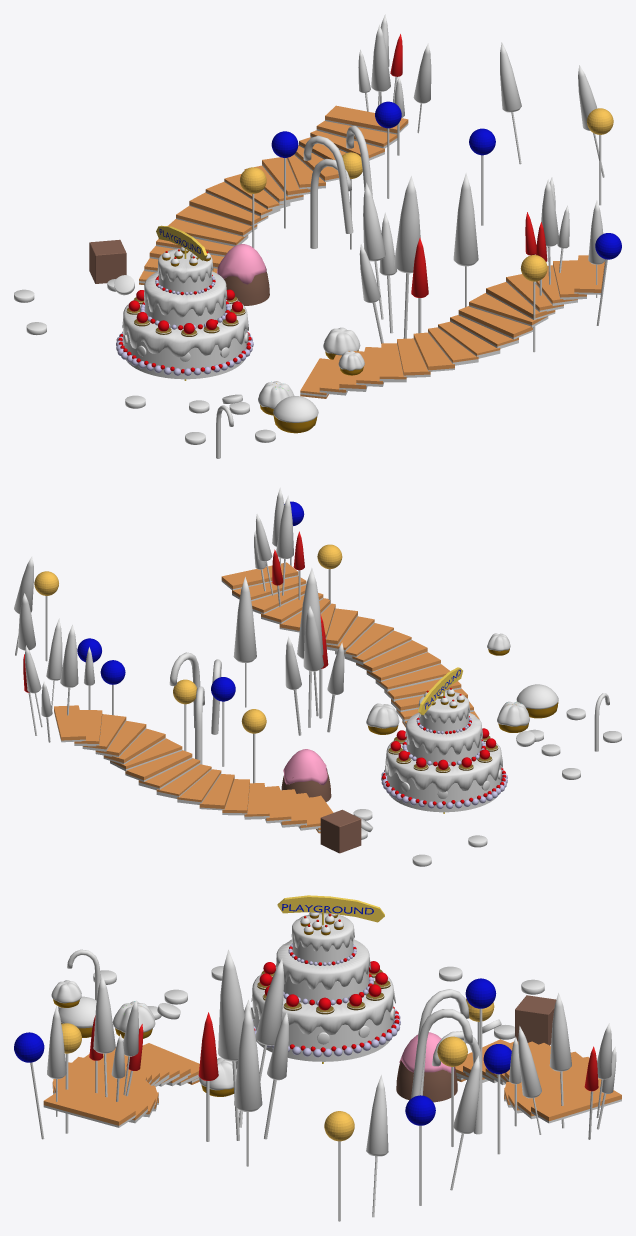
The model's file is land2 details.fbx.
The picture shows the model from 3 angles, top to bottom: view 1: azimuth 30°, elevation 25°; view 2: azimuth 150°, elevation 25°; view 3: azimuth 270°, elevation 25°; orthographic projection. The views are drawn at different scales.
Visible parts, largest first — view 1: stairs, candycone, maincakeicing, CANDY2.009, cakebody, CANDY2.008, candy5, conecakeicing, pie.002, cakeicingdecoration, cup cakes, leftcake (+3 smaller); view 2: stairs, candycone, maincakeicing, CANDY2.009, cakebody, candy5, pie.002, CANDY2.008, conecakeicing, cakeicingdecoration, leftcake, cup cakes (+3 smaller); view 3: candycone, stairs, CANDY2.009, maincakeicing, cakebody, CANDY2.008, candy5, pie.002, conecakeicing, cakeicingdecoration, PLAYGROUND TITLE, leftcake (+3 smaller).
Part boxes in pixels (left/top/right/bottom): stairs: left=139, top=105, right=605, bottom=398; candycone: left=358, top=14, right=605, bottom=343; maincakeicing: left=122, top=248, right=248, bottom=357; CANDY2.009: left=240, top=101, right=621, bottom=352; cakebody: left=123, top=269, right=246, bottom=379; CANDY2.008: left=216, top=126, right=372, bottom=458; candy5: left=14, top=275, right=275, bottom=444; conecakeicing: left=217, top=244, right=269, bottom=305; pie.002: left=258, top=327, right=364, bottom=415; cakeicingdecoration: left=116, top=275, right=253, bottom=375; cup cakes: left=162, top=247, right=318, bottom=433; leftcake: left=89, top=239, right=126, bottom=283; stairs: left=54, top=562, right=479, bottom=833; candycone: left=14, top=487, right=344, bottom=742; maincakeicing: left=385, top=691, right=502, bottom=792; CANDY2.009: left=34, top=501, right=342, bottom=783; cakebody: left=387, top=710, right=501, bottom=812; candy5: left=353, top=708, right=621, bottom=866; pie.002: left=366, top=633, right=529, bottom=734; CANDY2.008: left=169, top=652, right=609, bottom=764; conecakeicing: left=281, top=749, right=331, bottom=802; cakeicingdecoration: left=381, top=716, right=507, bottom=809; leftcake: left=320, top=809, right=361, bottom=853; cup cakes: left=424, top=684, right=558, bottom=718; candycone: left=47, top=949, right=616, bottom=1217; stairs: left=43, top=1039, right=621, bottom=1127; CANDY2.009: left=14, top=978, right=511, bottom=1221; maincakeicing: left=251, top=913, right=395, bottom=1034; cakebody: left=253, top=938, right=393, bottom=1061; CANDY2.008: left=67, top=949, right=482, bottom=1134; candy5: left=58, top=966, right=544, bottom=1044; pie.002: left=51, top=980, right=236, bottom=1096; conecakeicing: left=396, top=1032, right=457, bottom=1102; cakeicingdecoration: left=252, top=943, right=400, bottom=1057; PLAYGROUND TITLE: left=277, top=895, right=384, bottom=1063; leftcake: left=515, top=995, right=556, bottom=1045.
Bounding box in the file's own units: 5285 × 1931 × 4500.
